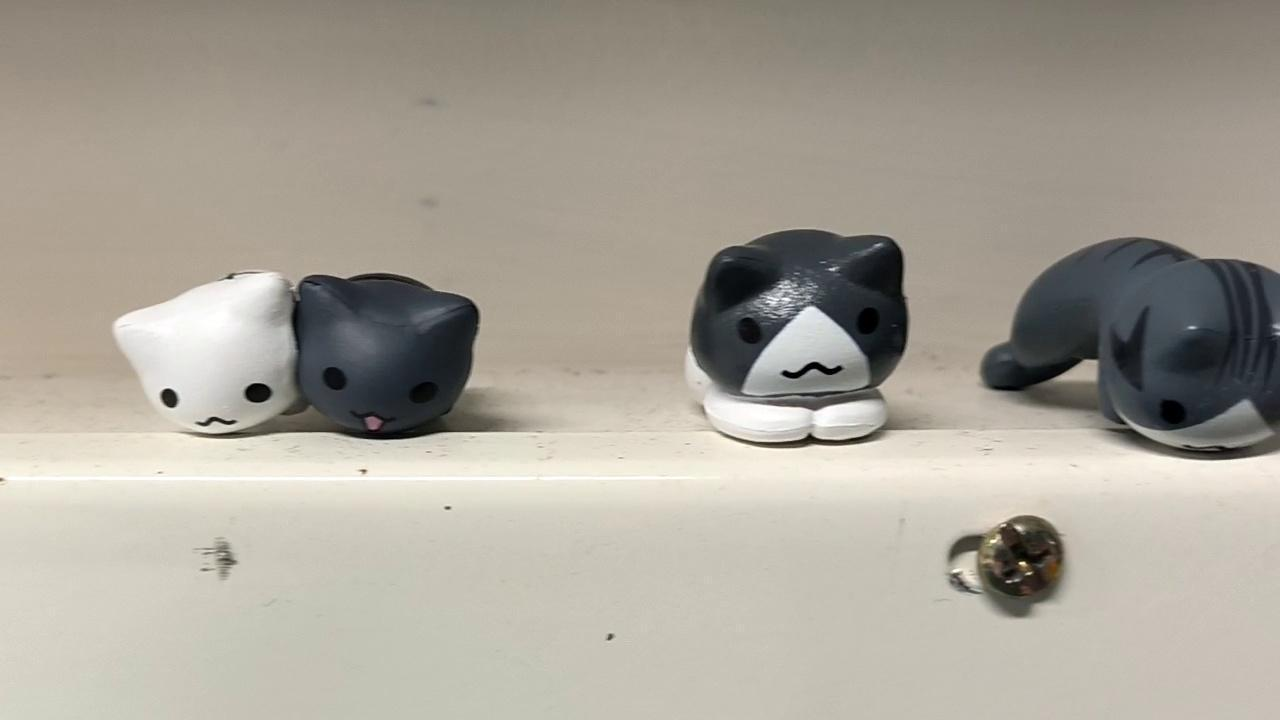pet: (981, 231, 1280, 457), (684, 224, 913, 446), (294, 271, 481, 446), (111, 268, 300, 437)
